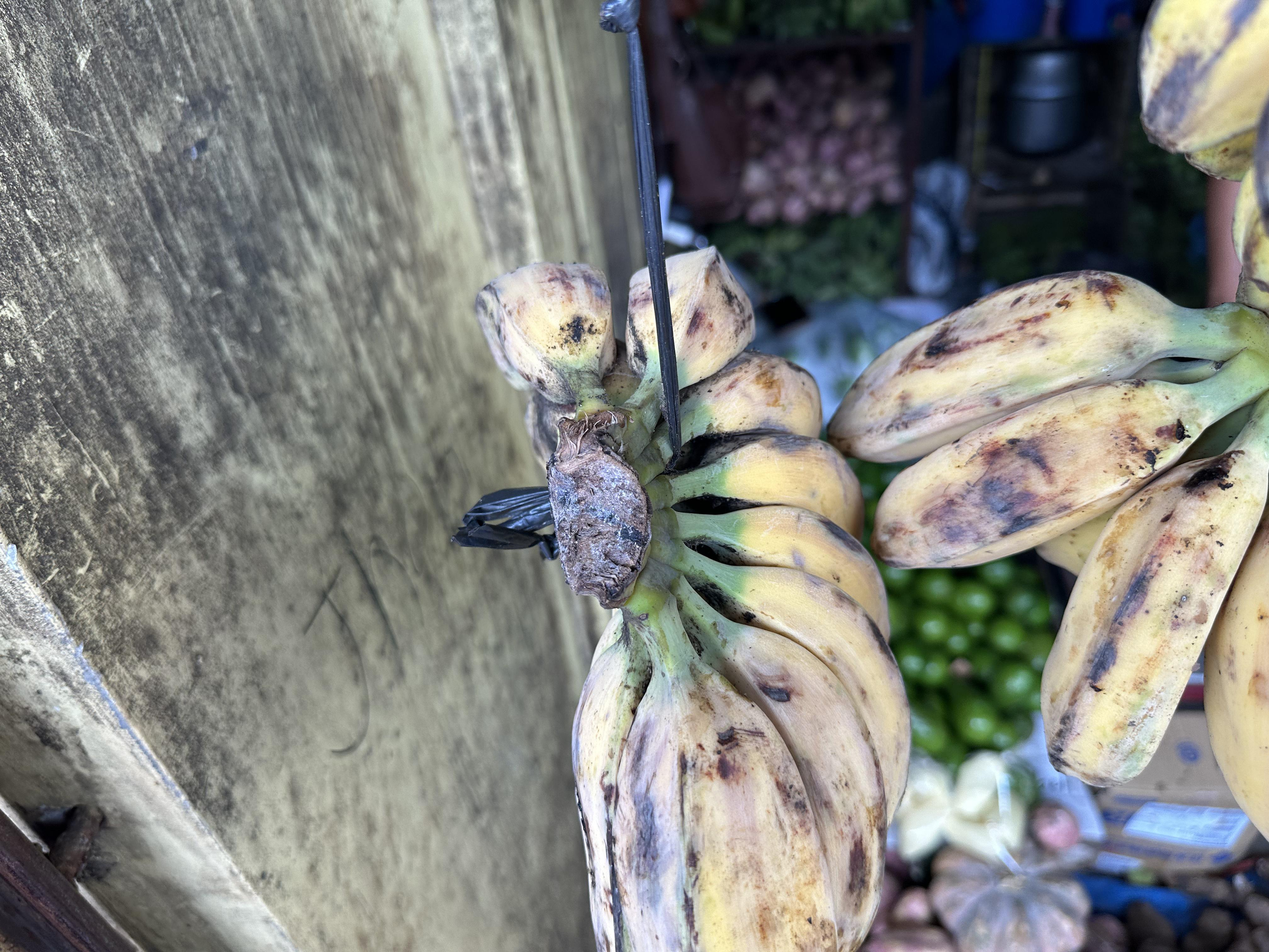ripe: (476, 248, 910, 951), (830, 271, 1269, 837)
